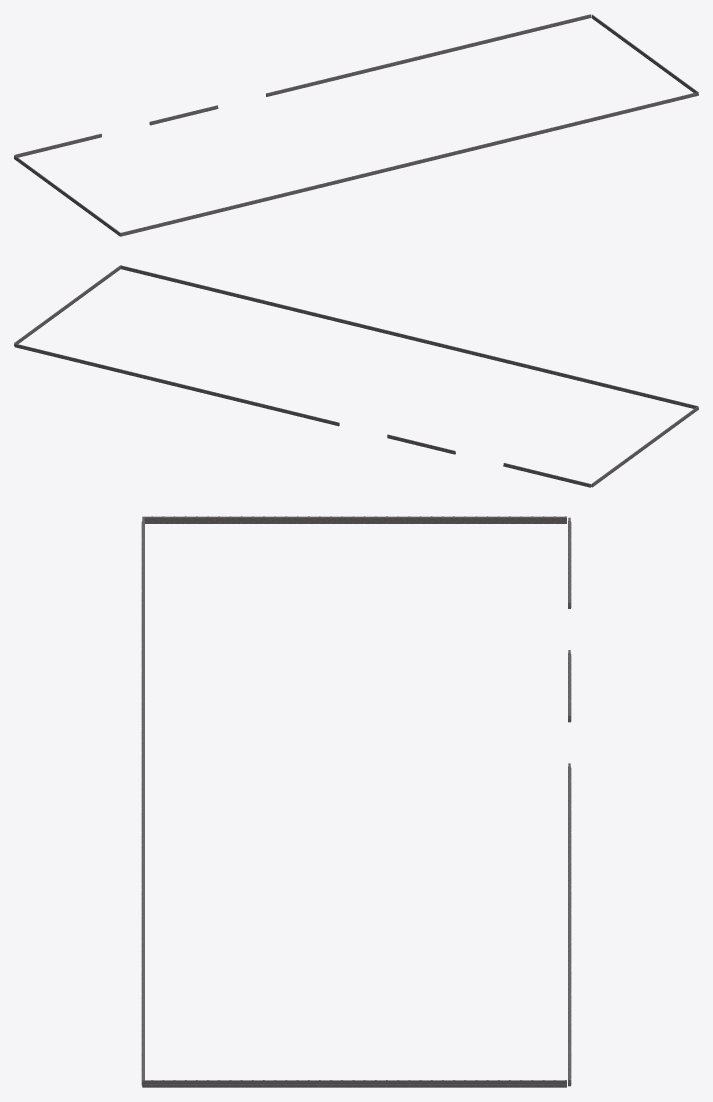
File: Pagarktak.fbx
3 views of the same model, one above another, from view 1: azimuth 30°, elevation 25°; view 2: azimuth 150°, elevation 25°; view 3: azimuth 270°, elevation 25° (orthographic). The views are drawn at different scales.
Visible parts, largest first — view 1: Pagar2.004, Pagar2.003; view 2: Pagar2.004, Pagar2.003; view 3: Pagar2.003, Pagar2.004.
Part boxes in pixels (x1,y1,x2,y2): Pagar2.004: [14, 14, 697, 236]; Pagar2.003: [14, 14, 698, 236]; Pagar2.004: [14, 265, 697, 487]; Pagar2.003: [14, 265, 698, 487]; Pagar2.003: [142, 516, 566, 1087]; Pagar2.004: [141, 517, 571, 1086].
Size of the model in its own units: 32749 by 195 by 10523.
